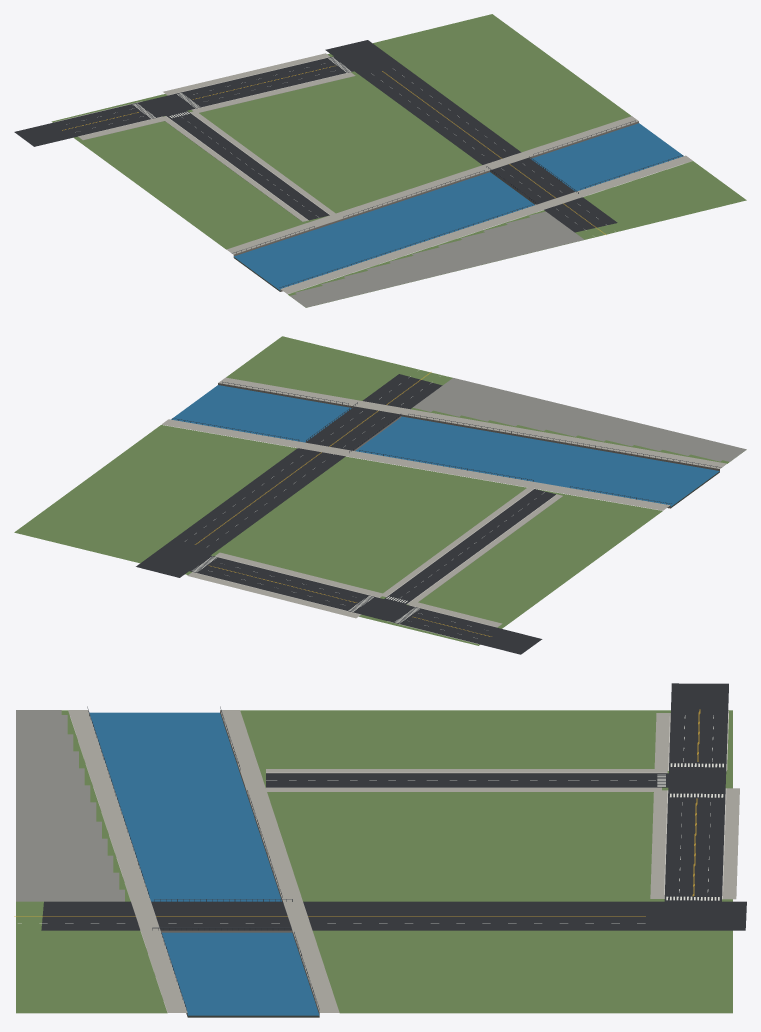
The model's file is Ground_7_2.fbx.
3 views of the same model, one above another, from view 1: azimuth 30°, elevation 25°; view 2: azimuth 150°, elevation 25°; view 3: azimuth 270°, elevation 25° (orthographic). The views are drawn at different scales.
Parts seen in each view (by area): view 1: Ground_7_2; view 2: Ground_7_2; view 3: Ground_7_2.
Part boxes in pixels (box(x1,y1,x2,y2)): Ground_7_2: box(14, 14, 746, 307); Ground_7_2: box(14, 336, 746, 654); Ground_7_2: box(14, 683, 746, 1017).
Bounding box in the file's own units: 272 × 2.7 × 256.
